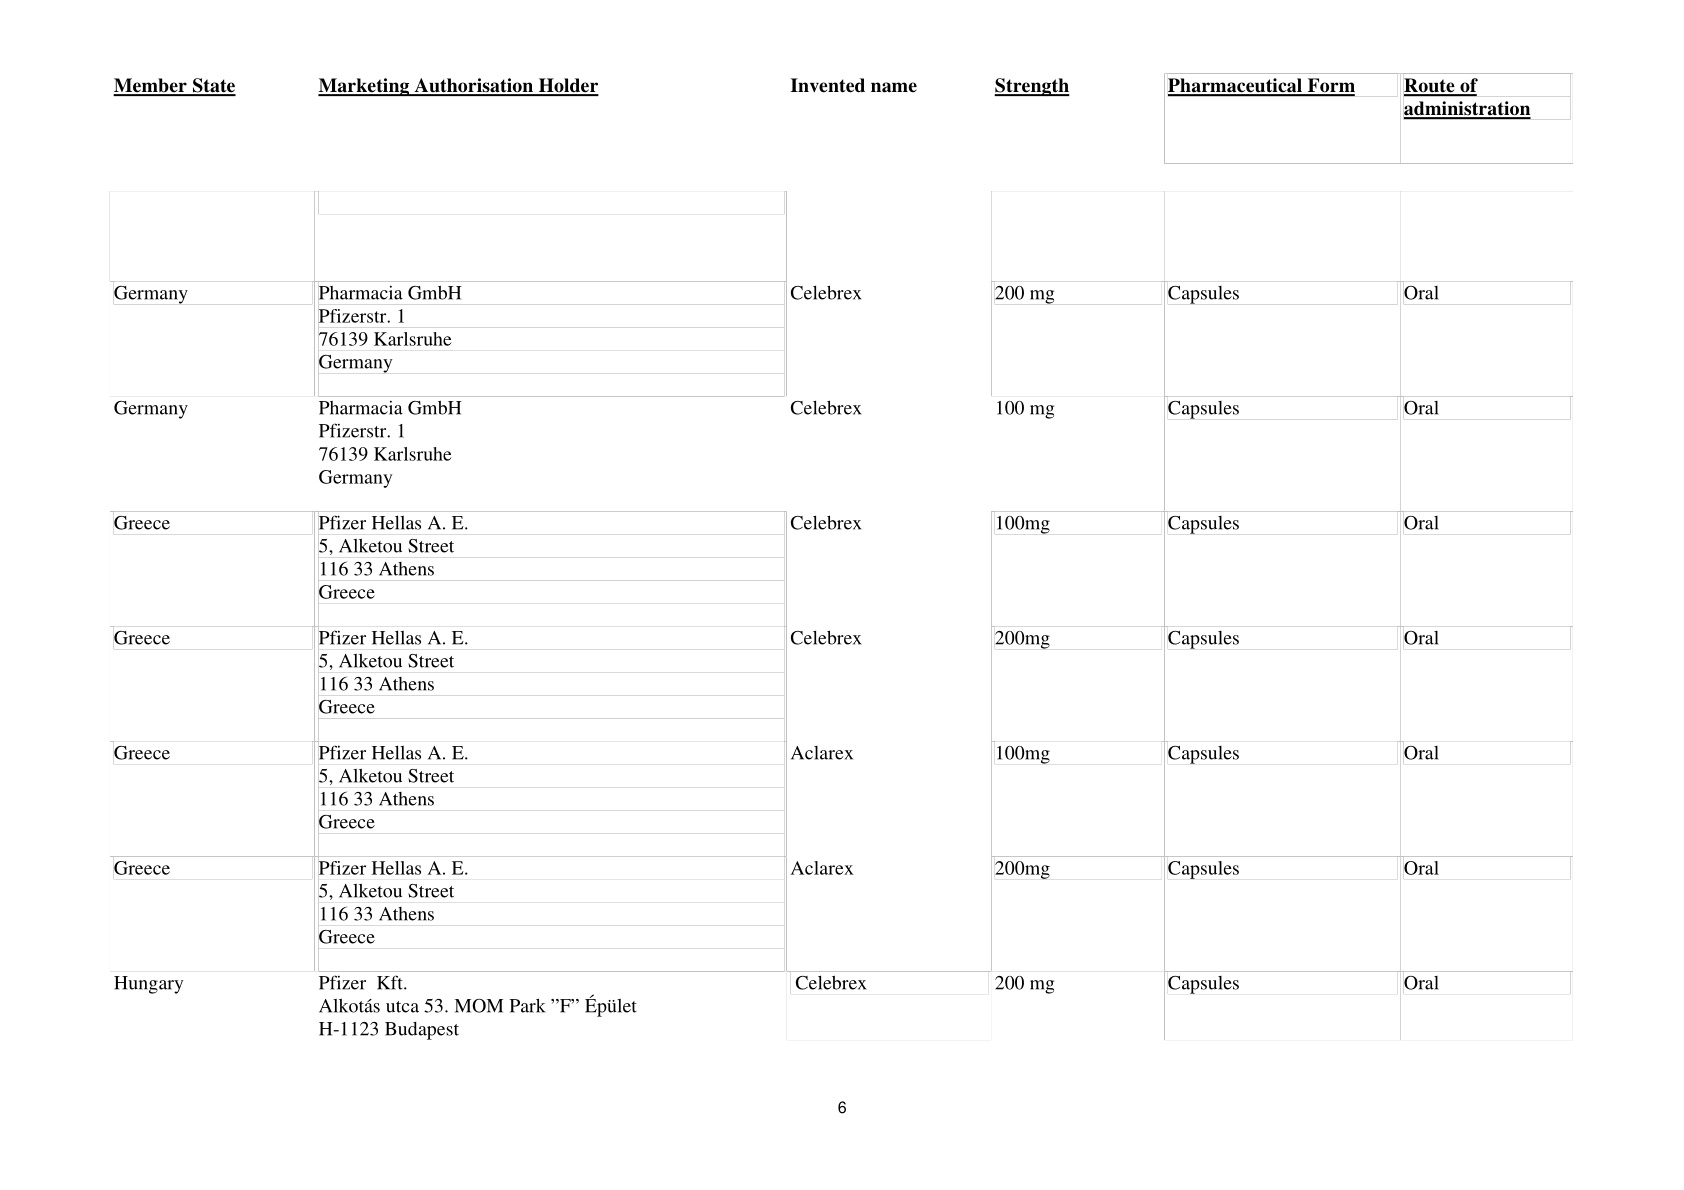partial_lined: (108, 73, 1573, 1041)
